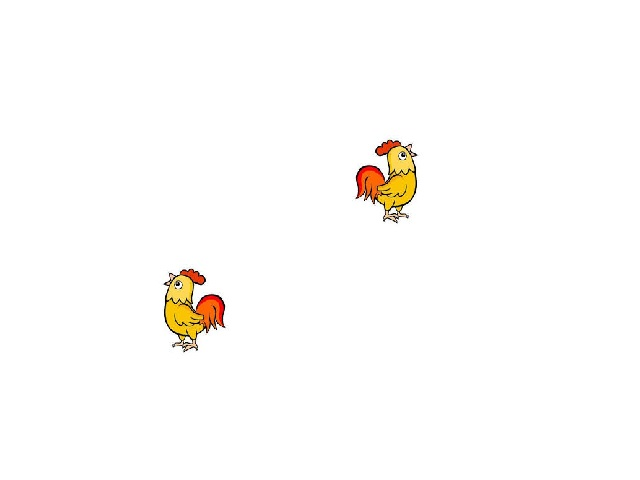crown: (370, 137, 402, 155), (180, 268, 208, 286)
eyes: (396, 151, 409, 163), (172, 280, 185, 290)
feet: (175, 340, 199, 355), (384, 212, 408, 225)
tail: (351, 164, 386, 204), (195, 293, 228, 333)
